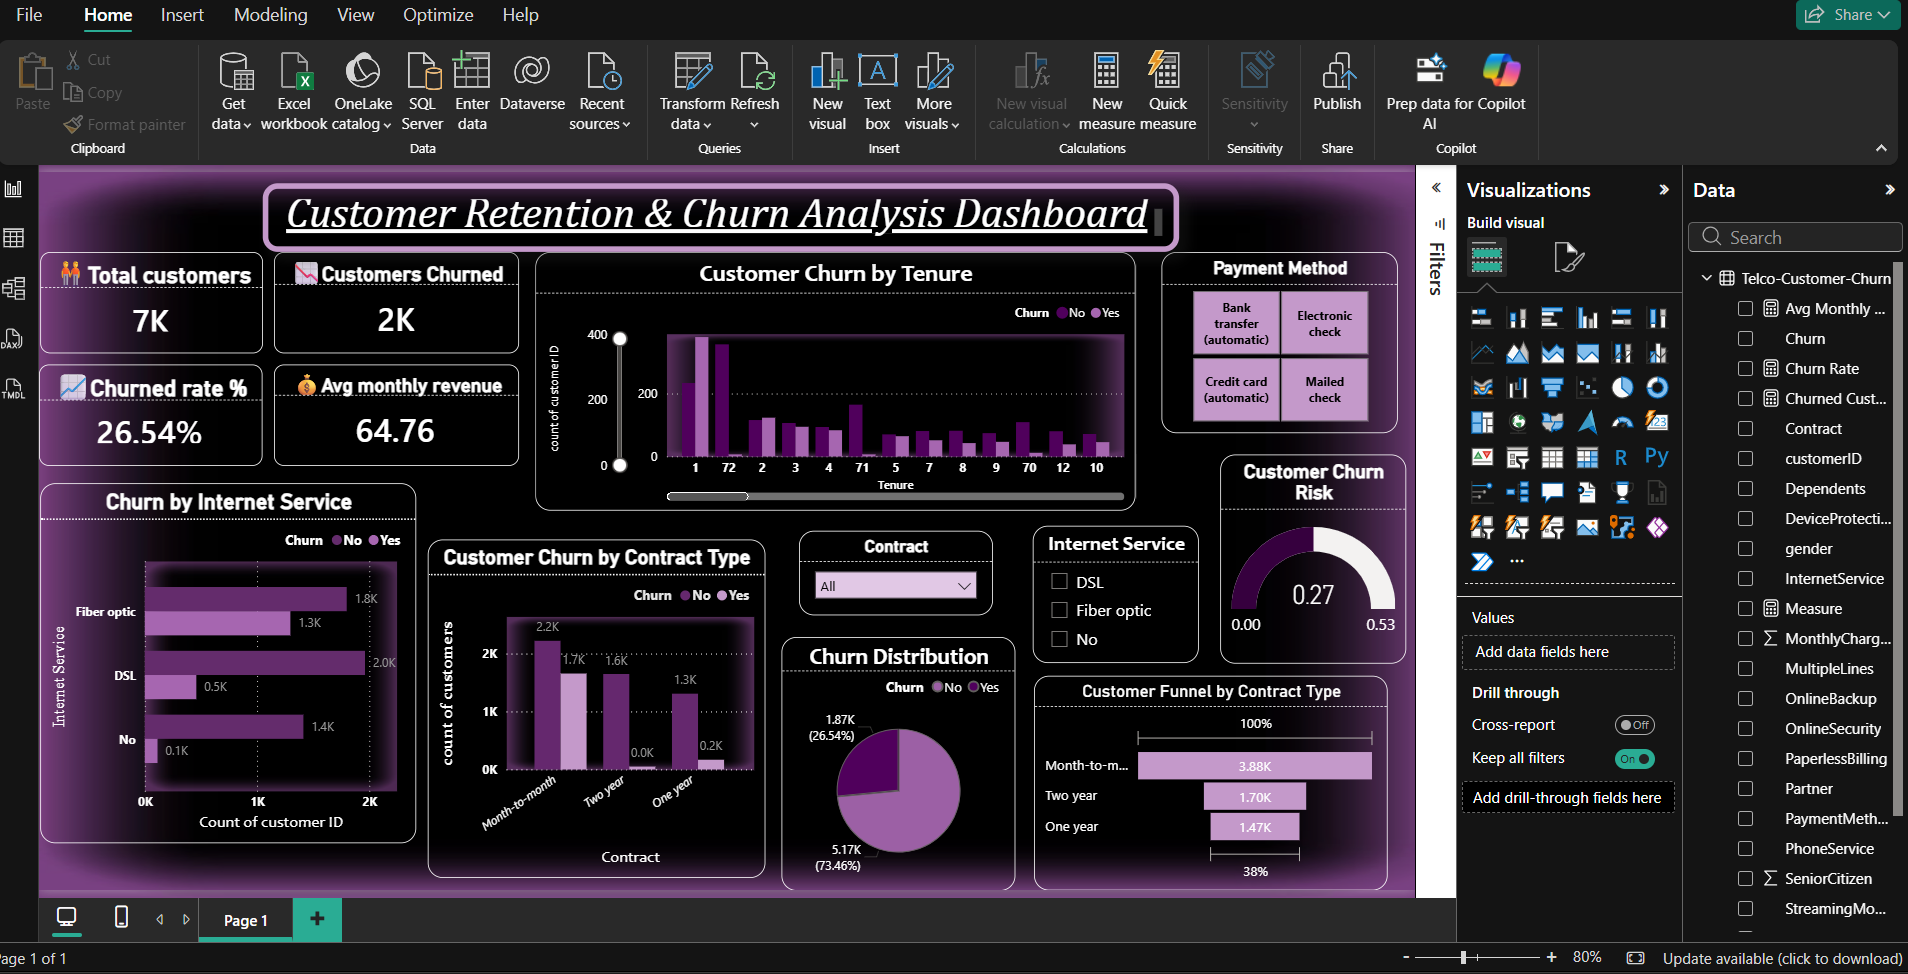

The dashboard page shown, as its layout file describes it:
{"tool":"powerbi","page":{"name":"Page 1","canvas":[1379,720],"ordinal":0},"visuals":[{"type":"cardVisual","title":"🧑🤝🧑Total customers","fields":{"Data":["Telco-Customer-Churn.Total Customers"]},"box":[1.3,80.2,223,101.5],"z":0},{"type":"cardVisual","title":"📉Customers Churned","fields":{"Data":["Telco-Customer-Churn.Churned Customers"]},"box":[235.5,80.2,245.5,101.5],"z":1000},{"type":"cardVisual","title":"📈Churned rate %","fields":{"Data":["Telco-Customer-Churn.Churn Rate"]},"box":[0,192.9,224.2,101.5],"z":2000},{"type":"cardVisual","title":"💰Avg monthly  revenue","fields":{"Data":["Telco-Customer-Churn.Avg Monthly Charges"]},"box":[235.5,192.9,245.5,101.5],"z":3000},{"type":"clusteredColumnChart","title":"Customer Churn by Contract Type","fields":{"Category":["Telco-Customer-Churn.Contract"],"Y":["CountNonNull(Telco-Customer-Churn.customerID)"],"Series":["Telco-Customer-Churn.Churn"]},"box":[389.6,368.3,338.2,339.5],"z":4000},{"type":"clusteredBarChart","title":"Churn by Internet Service","fields":{"Series":["Telco-Customer-Churn.Churn"],"Category":["Telco-Customer-Churn.InternetService"],"Y":["CountNonNull(Telco-Customer-Churn.customerID)"]},"box":[1.3,311.9,377.1,360.8],"z":5000},{"type":"clusteredColumnChart","title":"Customer Churn by Tenure","fields":{"Category":["Telco-Customer-Churn.tenure"],"Y":["CountNonNull(Telco-Customer-Churn.customerID)"],"Series":["Telco-Customer-Churn.Churn"]},"box":[509.2,79.8,601.2,260.1],"z":6000},{"type":"pieChart","title":"Churn Distribution","fields":{"Category":["Telco-Customer-Churn.Churn"],"Y":["CountNonNull(Telco-Customer-Churn.customerID)"]},"box":[744.1,466,234.3,254.3],"z":7000},{"type":"slicer","title":"Contract","fields":{"Values":["Telco-Customer-Churn.Contract"]},"box":[761.7,359.5,194.2,85.2],"z":8000},{"type":"slicer","title":"Payment Method","fields":{"Values":["Telco-Customer-Churn.PaymentMethod"]},"box":[1125,80.2,236.8,181.6],"z":9000},{"type":"slicer","title":"Internet Service","fields":{"Values":["Telco-Customer-Churn.InternetService"]},"box":[995.9,354.5,166.6,137.8],"z":10000},{"type":"textbox","box":[224.2,11.3,918.3,68.9],"z":11000},{"type":"gauge","title":"Customer Churn Risk","fields":{"Y":["Telco-Customer-Churn.Churn Rate"]},"box":[1183.8,283.1,186.7,209.2],"z":12000},{"type":"funnel","title":"Customer Funnel by Contract Type","fields":{"Category":["Telco-Customer-Churn.Contract"],"Y":["CountNonNull(Telco-Customer-Churn.customerID)"]},"box":[997.2,504.8,354.5,215.5],"z":13000}]}

Visuals, with their boxes on the page's 1379x720 design canvas (x1, y1, x2, y2). These are canvas units, not pixel positions in the 1908x974 screenshot, which may show the page scaled, cropped or inside an application window:
"🧑🤝🧑Total customers" cardVisual: bbox(1, 80, 224, 182)
"📉Customers Churned" cardVisual: bbox(236, 80, 481, 182)
"📈Churned rate %" cardVisual: bbox(0, 193, 224, 294)
"💰Avg monthly  revenue" cardVisual: bbox(236, 193, 481, 294)
"Customer Churn by Contract Type" clusteredColumnChart: bbox(390, 368, 728, 708)
"Churn by Internet Service" clusteredBarChart: bbox(1, 312, 378, 673)
"Customer Churn by Tenure" clusteredColumnChart: bbox(509, 80, 1110, 340)
"Churn Distribution" pieChart: bbox(744, 466, 978, 720)
"Contract" slicer: bbox(762, 360, 956, 445)
"Payment Method" slicer: bbox(1125, 80, 1362, 262)
"Internet Service" slicer: bbox(996, 354, 1162, 492)
textbox: bbox(224, 11, 1142, 80)
"Customer Churn Risk" gauge: bbox(1184, 283, 1370, 492)
"Customer Funnel by Contract Type" funnel: bbox(997, 505, 1352, 720)
